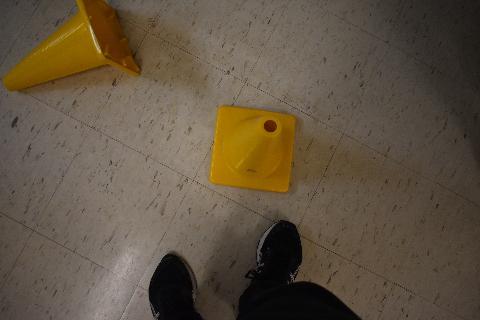cone: (4, 0, 140, 91), (210, 106, 294, 192)
